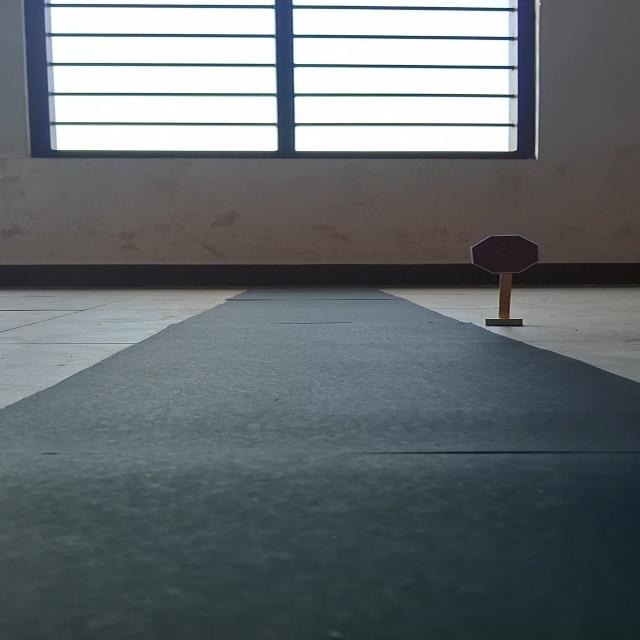Stop: (471, 234, 542, 276)
